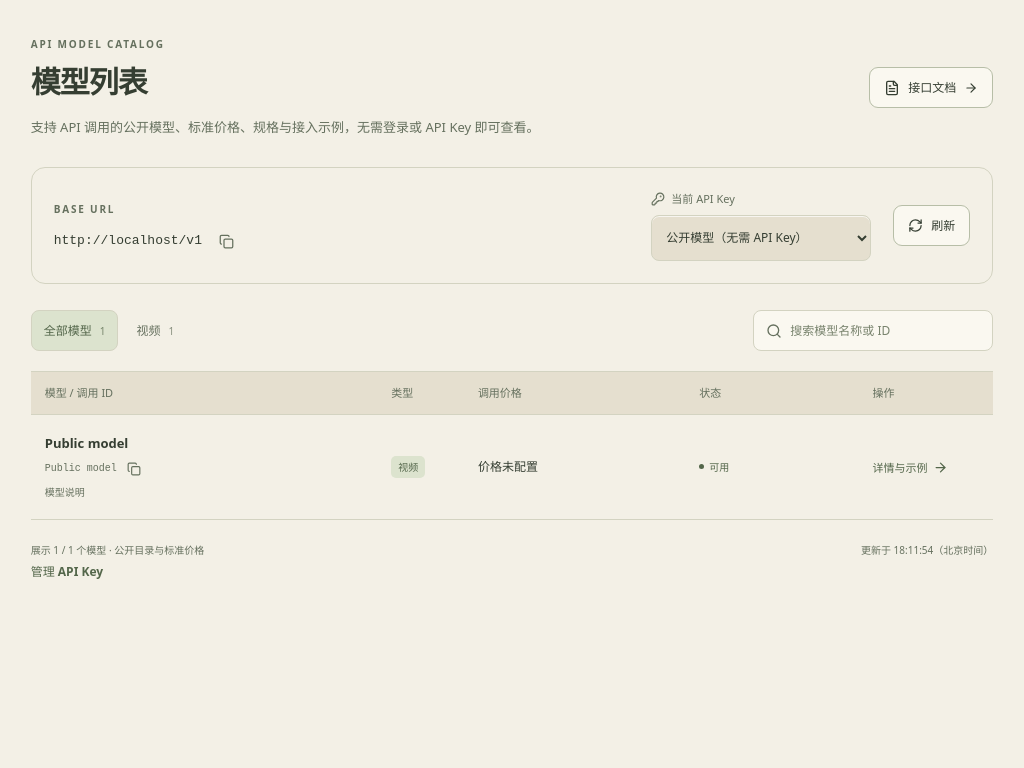
Test: API model catalog page › cancels old requests and never displays a previous key’s late response
Expected: the heading "Public model" is shown, [45,434,128,452]
Select "First key · sk-fir****1234" in the dropdown labelled "当前 API Key" at point(761, 238), box [651,215,871,261]
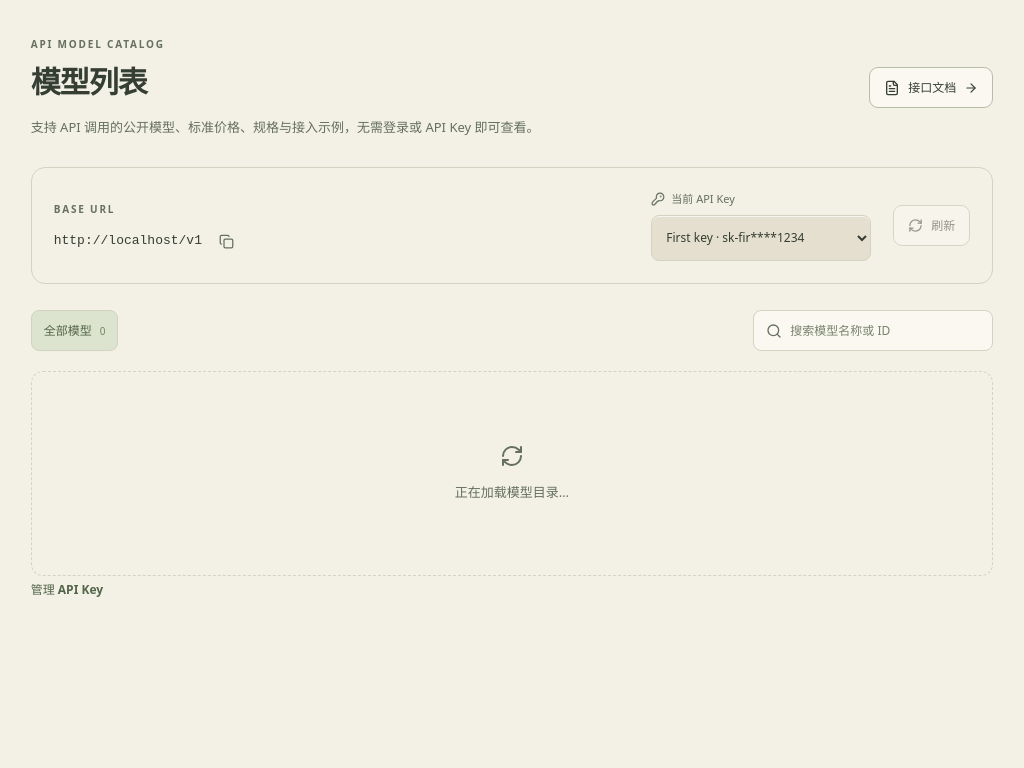
Select "Second key · sk-sec****5678" in the dropdown labelled "当前 API Key" at point(761, 238), box [651,215,871,261]
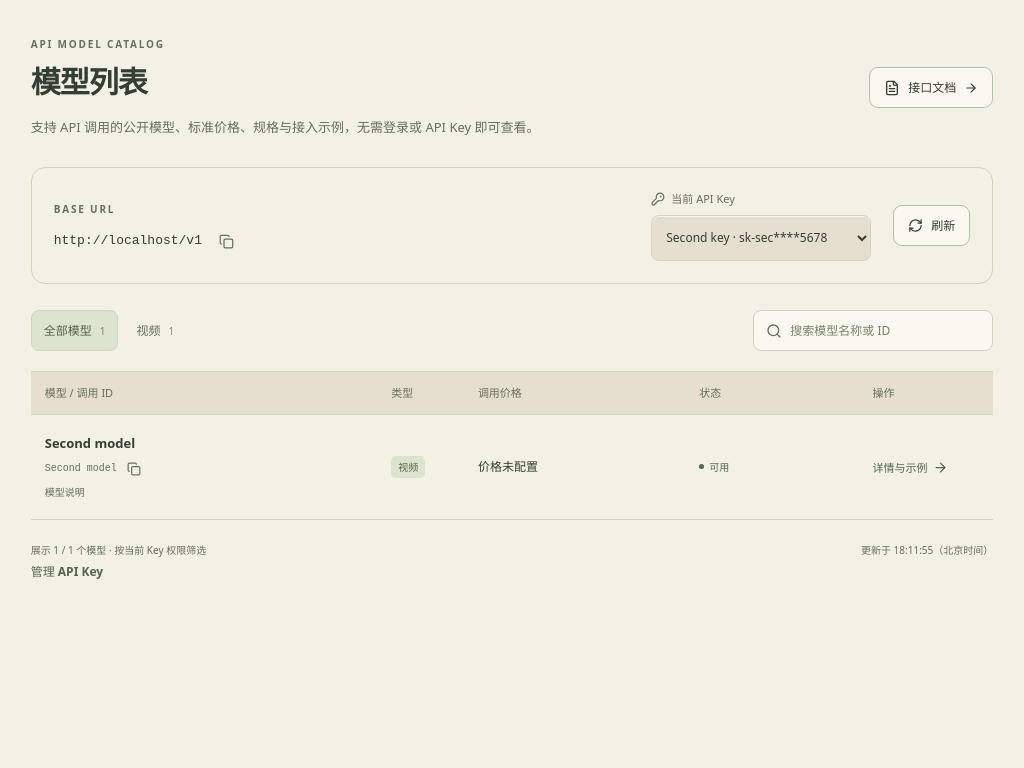
Result: the heading "Second model" is shown at [45,434,135,452]
